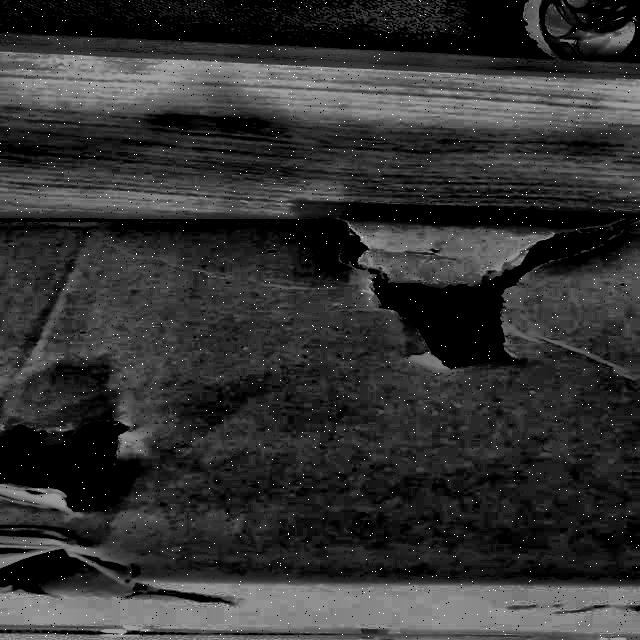box: (1, 215, 640, 639)
hole: (325, 217, 637, 365), (4, 542, 236, 609), (1, 417, 135, 515)
